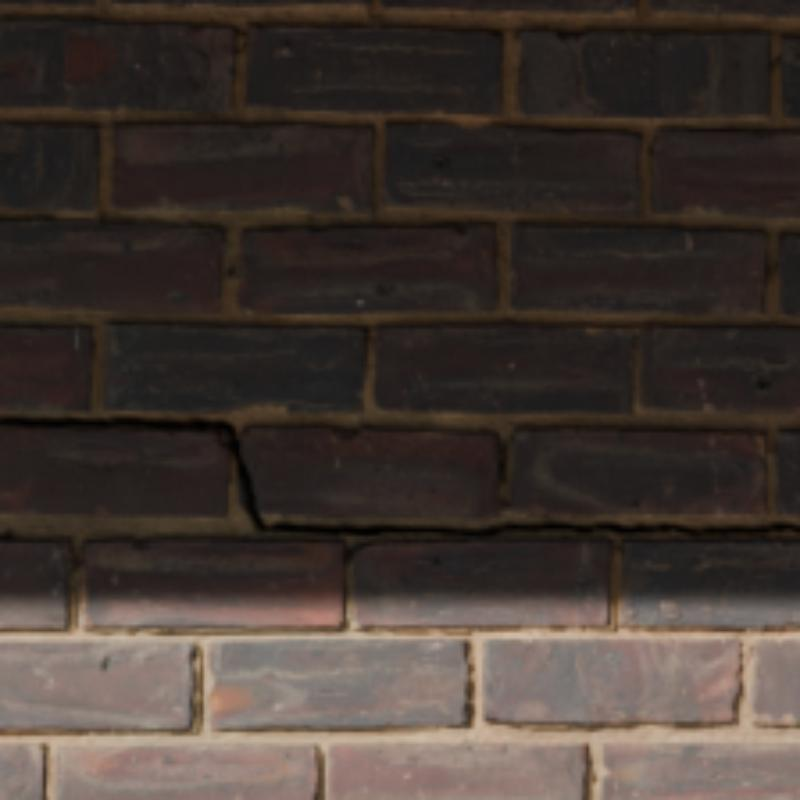pothole: (0, 414, 796, 532)
